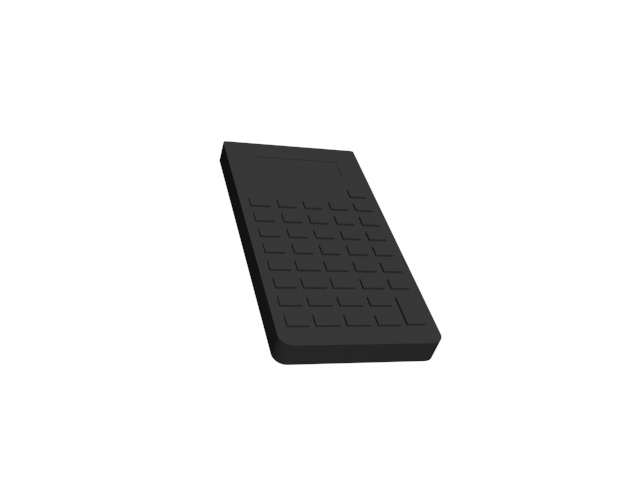calculator: (217, 137, 448, 368)
